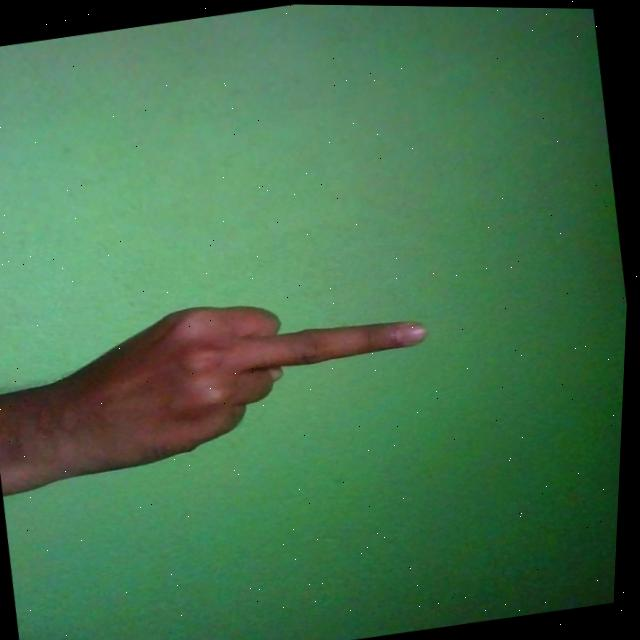Middle Finger: (3, 268, 449, 489)
